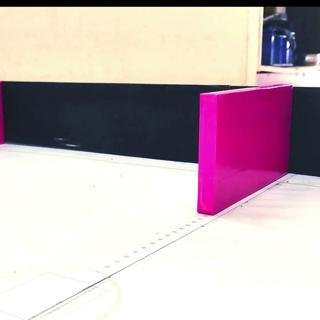xparking: (199, 93, 293, 212)
